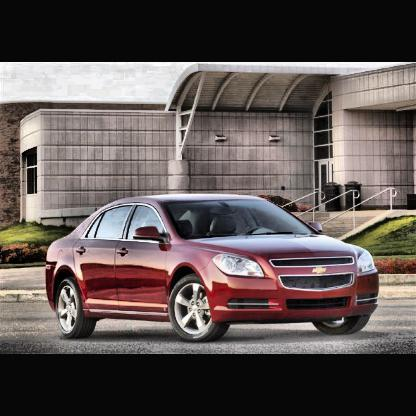Chevrolet Malibu Hybrid Sedan 2010: (47, 194, 381, 342)
